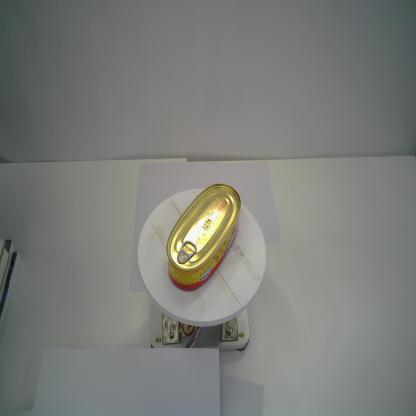Canned Food: (166, 182, 243, 296)
